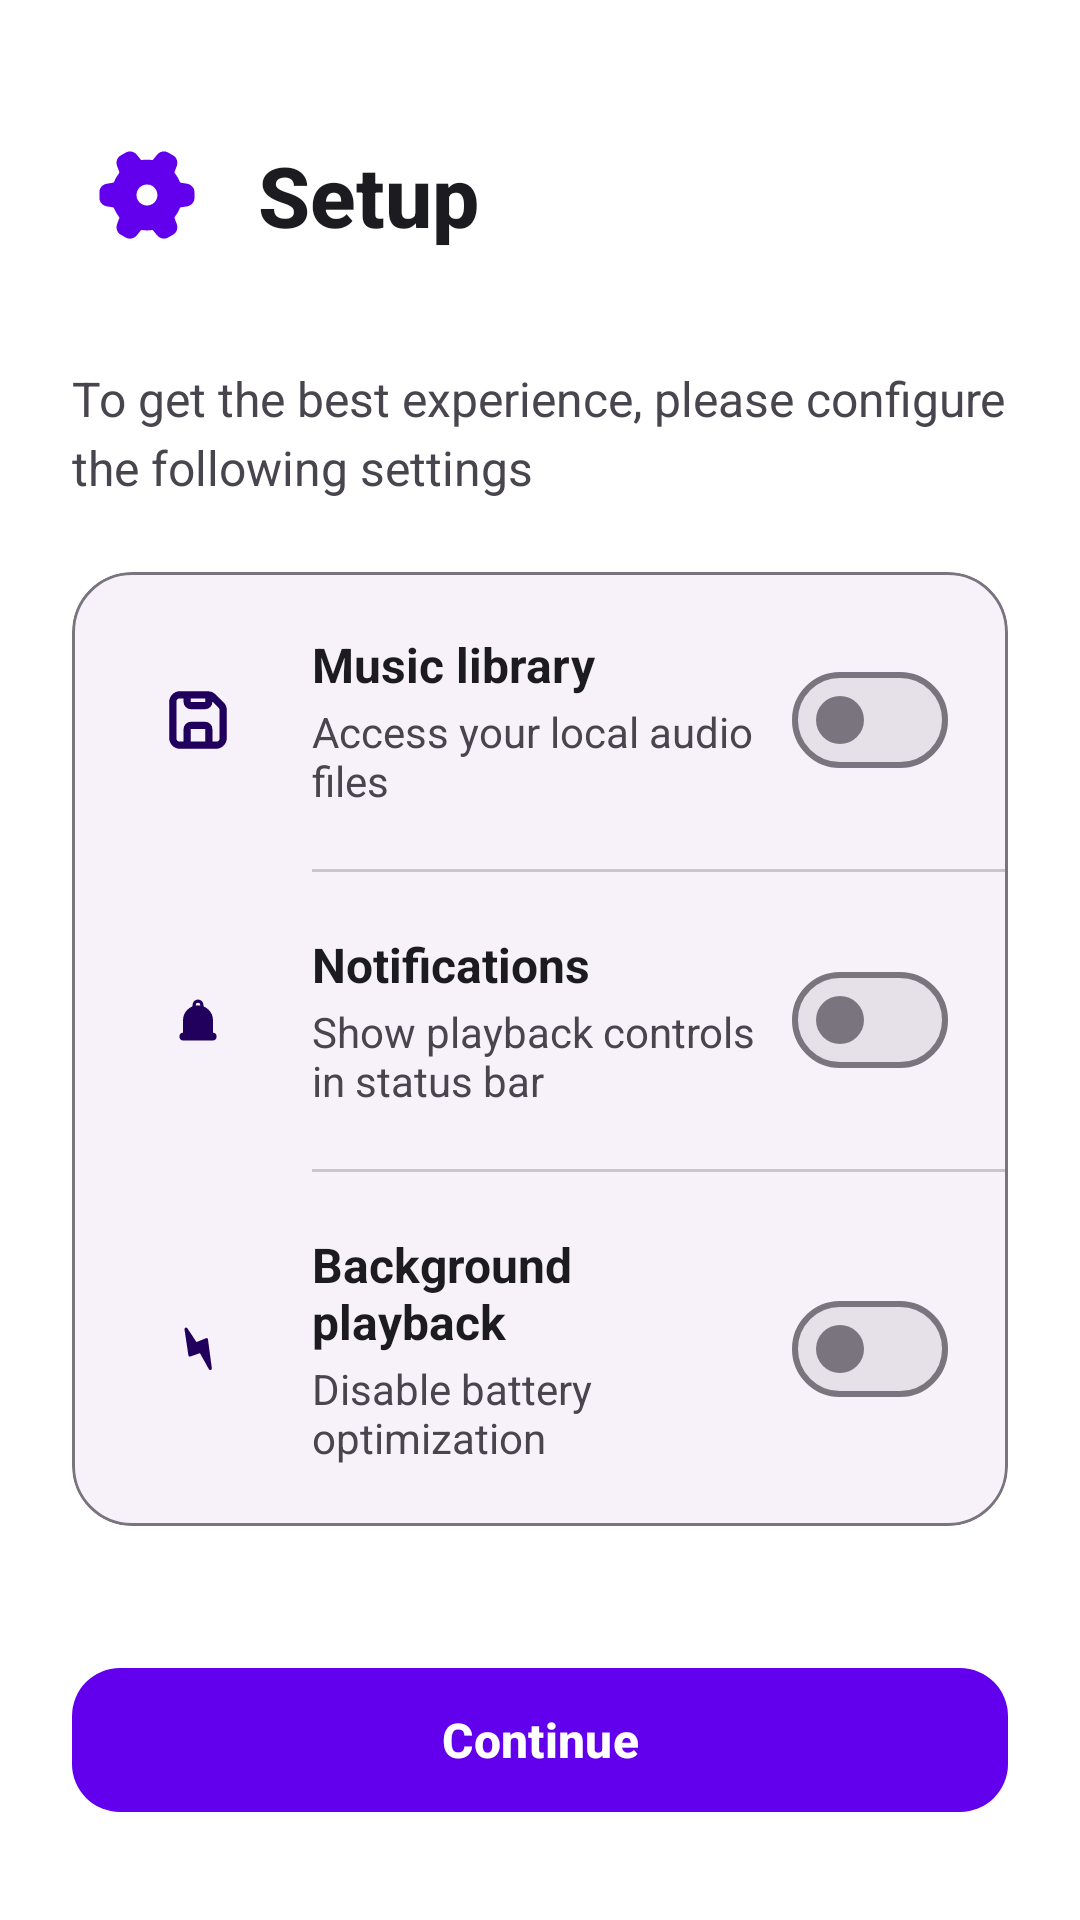

Screen size 1080*1920. Icon name, then its box in pixels as {"left": x1, "top": y1, "right": x2, "bottom": y2}:
energy: {"left": 184, "top": 1327, "right": 212, "bottom": 1370}
storage: {"left": 169, "top": 691, "right": 227, "bottom": 749}
